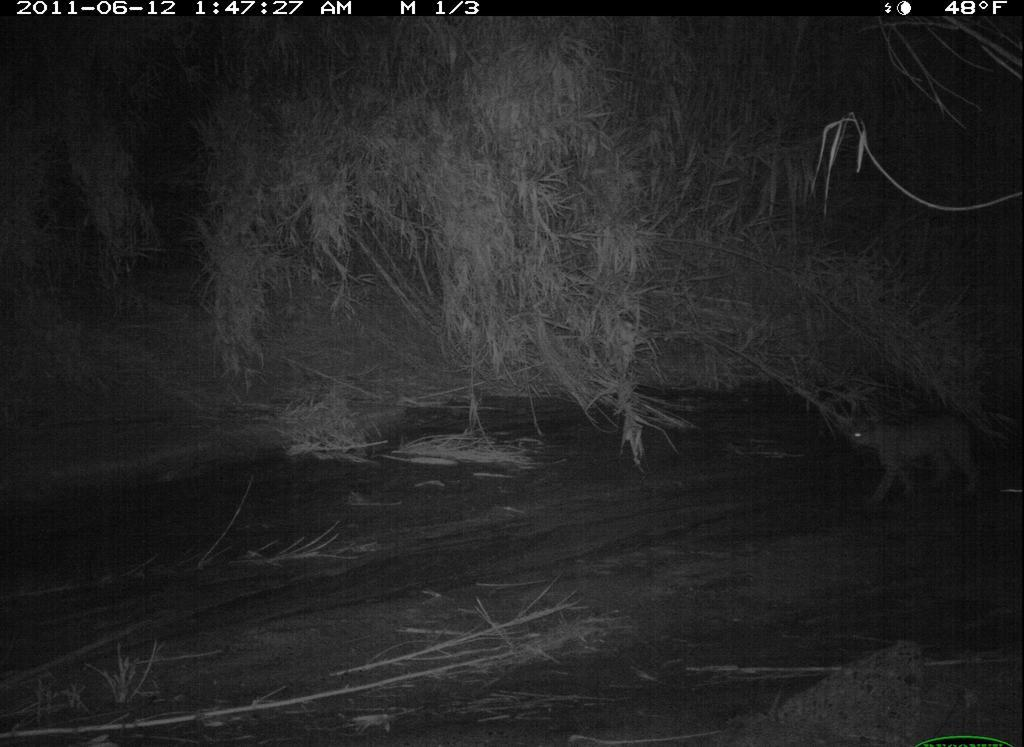bobcat: (827, 386, 1013, 515)
